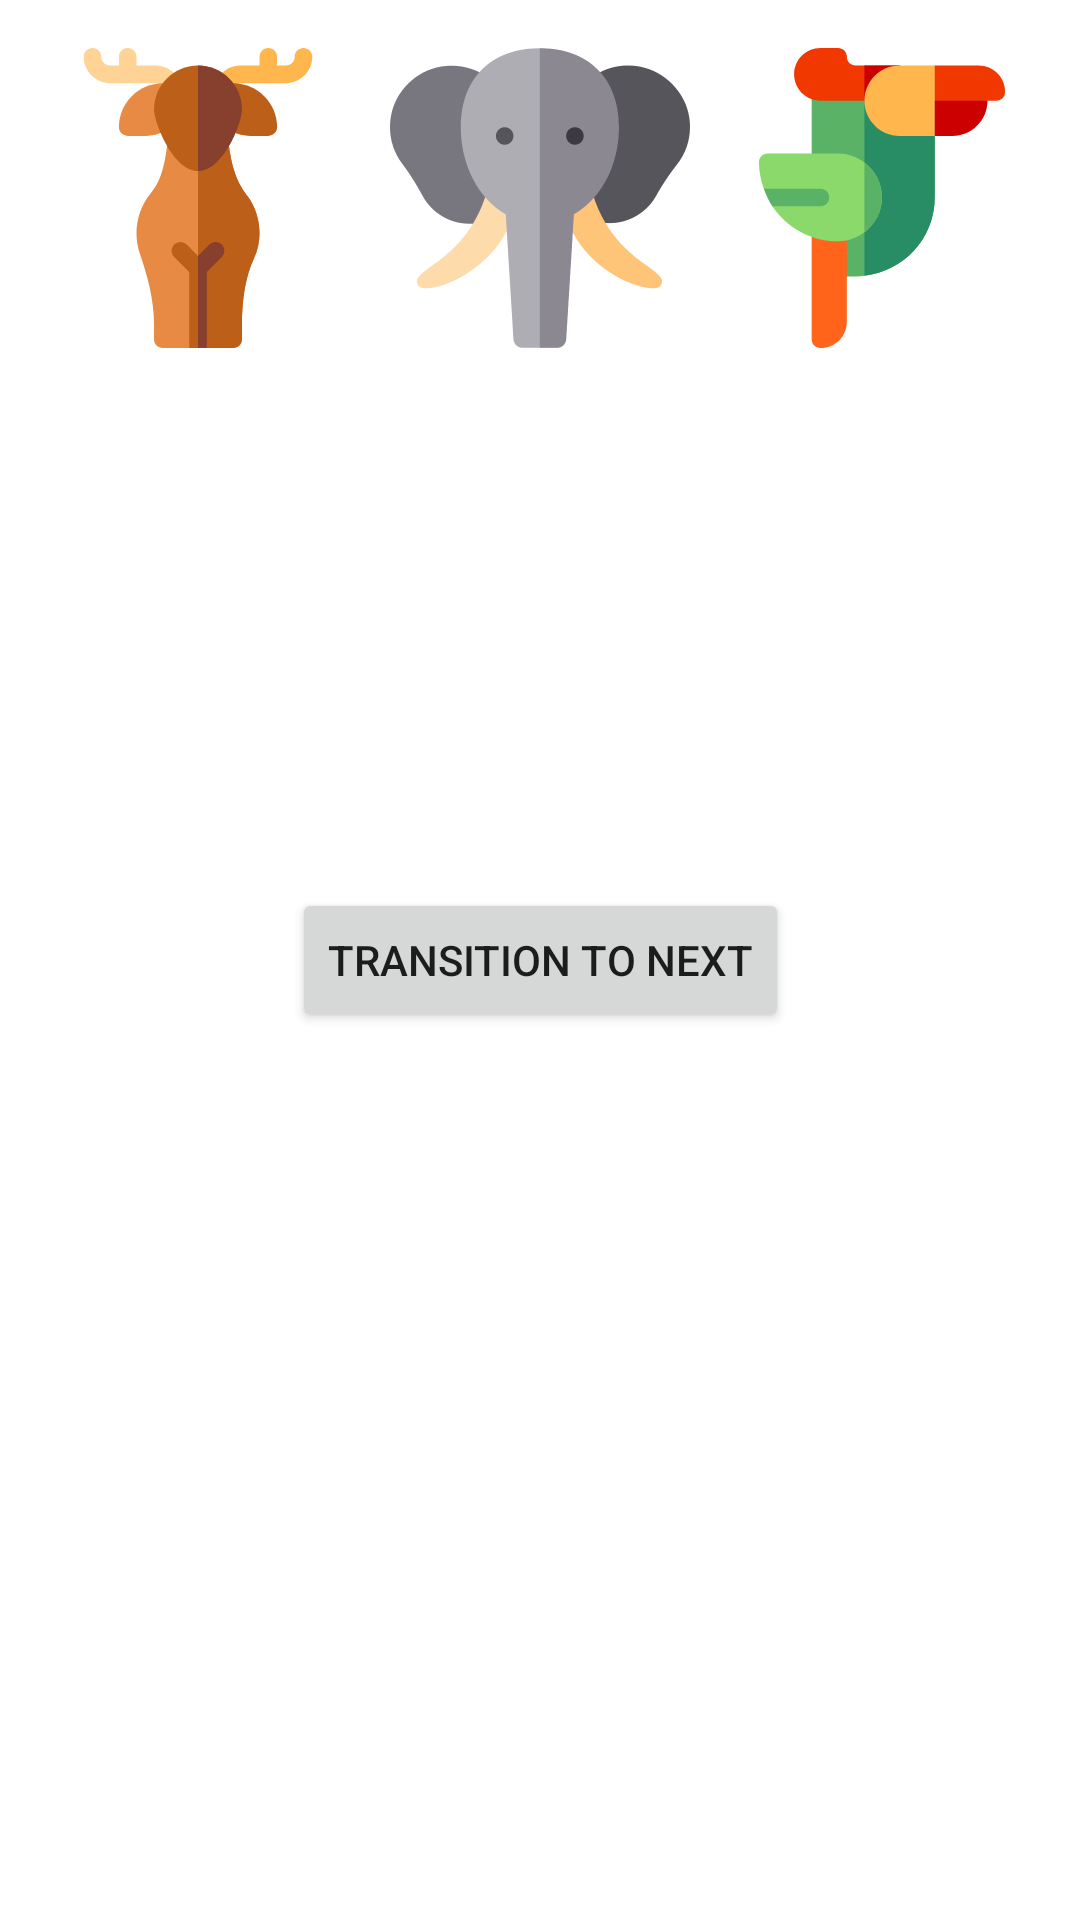

Icons on this 1080px x 1920px Android screen, each with the point to tap as (x=x, y=y):
deer: (x=198, y=198)
elephant: (x=540, y=198)
parrot: (x=882, y=198)
